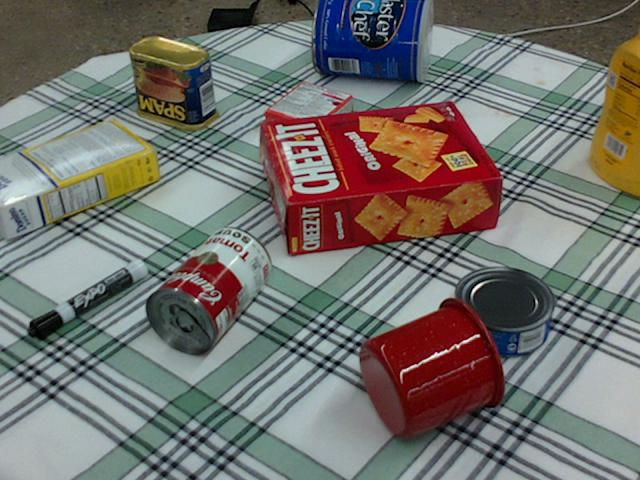cracker_box: (263, 101, 501, 253)
gelatin_box: (263, 79, 352, 146)
large_marker: (26, 259, 146, 340)
master_chef_can: (311, 0, 430, 80)
mug: (358, 294, 507, 440)
mustard_bottle: (587, 22, 639, 195)
potted_meat_can: (129, 36, 218, 129)
sugar_box: (0, 120, 157, 238)
tomato_soup_can: (144, 224, 271, 353)
tuna_fish_can: (454, 265, 556, 356)
